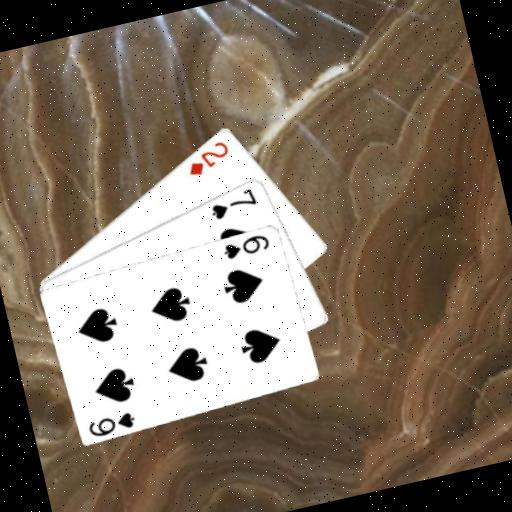2D: (181, 136, 235, 179)
6S: (219, 229, 273, 261), (84, 408, 138, 440)
7S: (205, 184, 261, 223)
